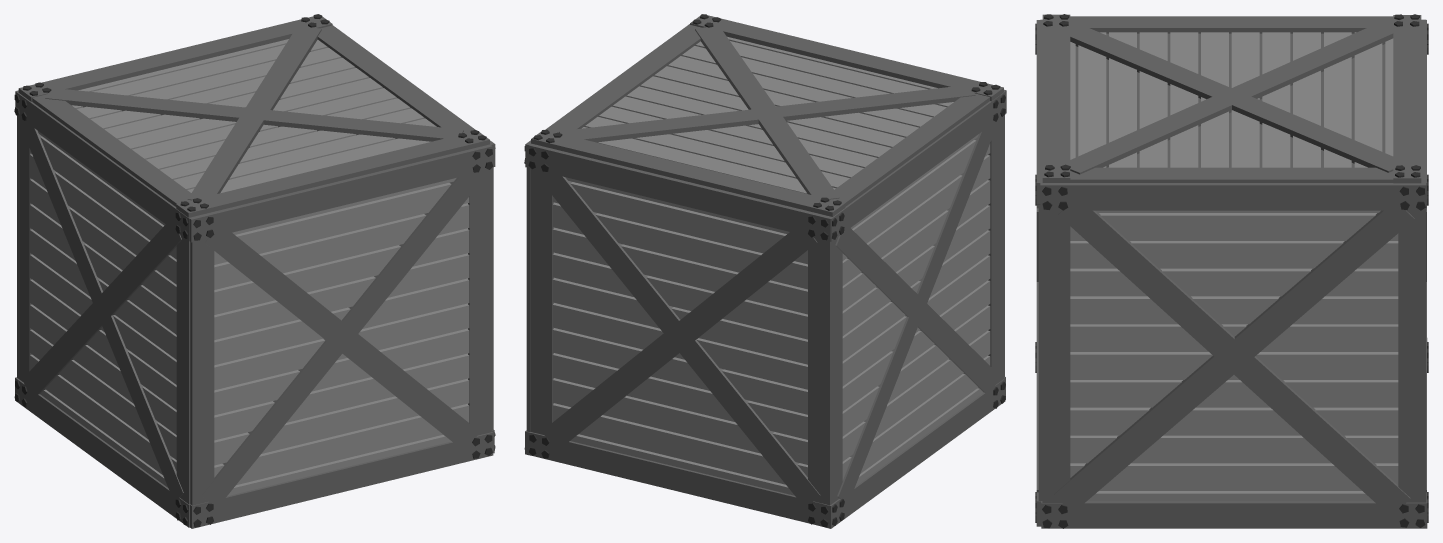
The model's file is Caja Metal.fbx.
3 renders of one model, left to right at view 1: azimuth 30°, elevation 25°; view 2: azimuth 150°, elevation 25°; view 3: azimuth 270°, elevation 25°, orthographic. The views are drawn at different scales.
Parts seen in each view (by area): view 1: Cube.001, Cube.010; view 2: Cube.001, Cube.010; view 3: Cube.001, Cube.010, Cube.
Part boxes in pixels (x1,y1,x2,y2): Cube.001: [30, 39, 469, 496]; Cube.010: [15, 16, 495, 528]; Cube.001: [552, 36, 990, 495]; Cube.010: [525, 14, 1006, 528]; Cube.001: [1070, 32, 1398, 500]; Cube.010: [1036, 14, 1427, 528]; Cube: [1075, 33, 1385, 167].
Bounding box in the file's own units: 213 × 208 × 212.
